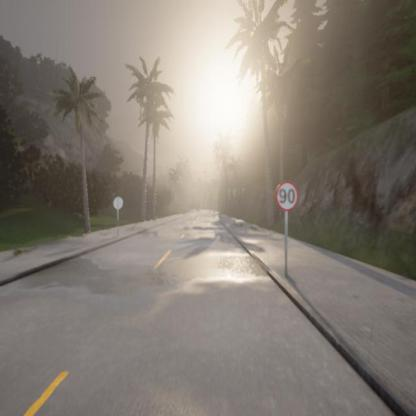traffic_sign_90: (276, 181, 298, 212)
